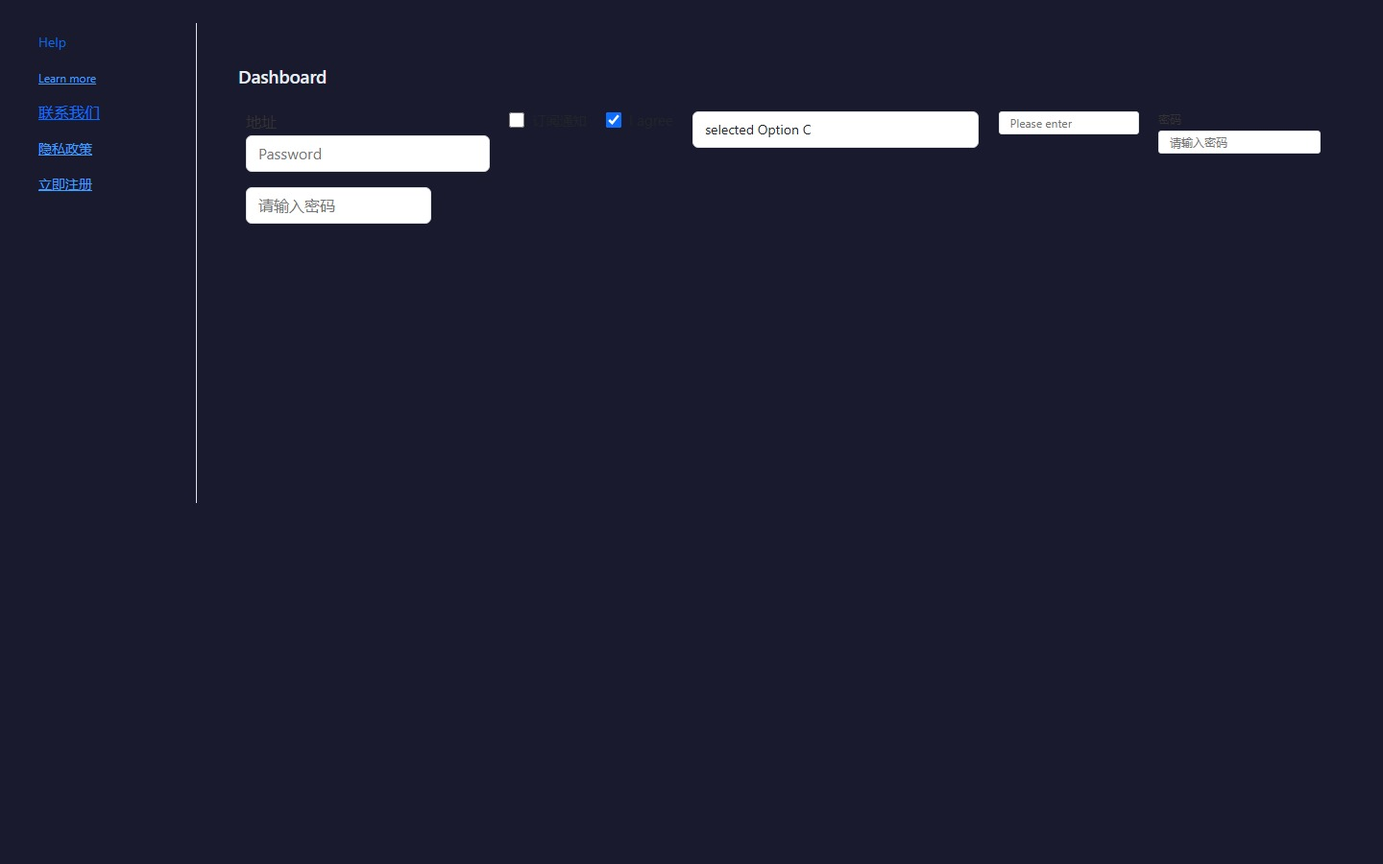checkbox: (509, 113, 525, 128), (606, 113, 621, 128)
icon: (532, 111, 586, 129), (629, 111, 673, 129)
input: (246, 135, 490, 172), (246, 187, 431, 223), (1158, 130, 1321, 153), (998, 111, 1139, 134)
link: (38, 102, 100, 122), (38, 139, 92, 157), (38, 175, 92, 193), (38, 70, 96, 85), (38, 33, 66, 51)
radio: (509, 111, 586, 129), (606, 111, 673, 129)
select: (693, 111, 979, 148)
